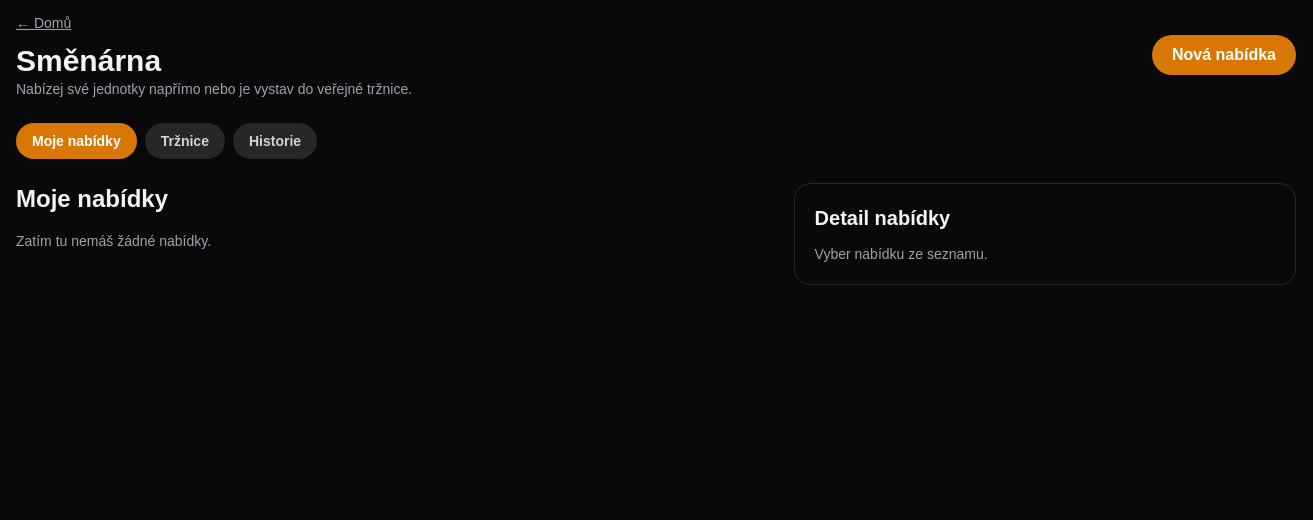
Scenario: ExchangePage › hides accepted offers from Moje nabídky while keeping them in Historie
The image size is (1313, 520).
Check: the heading "Moje nabídky" is shown, box [16,185,168,212]
Check: the text "Zatím tu nemáš žádné nabídky." is shown, box [16,233,211,249]
Click the button "Historie".
click(275, 141)  # box [233,123,317,159]
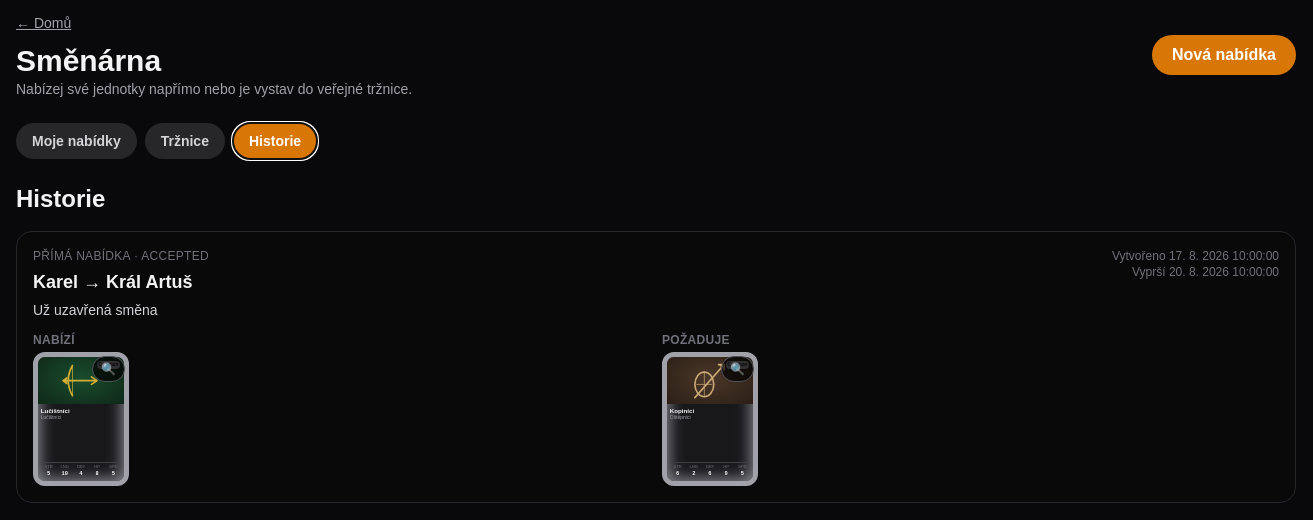
Check: the text "Už uzavřená směna" is shown, box [33,302,158,318]
